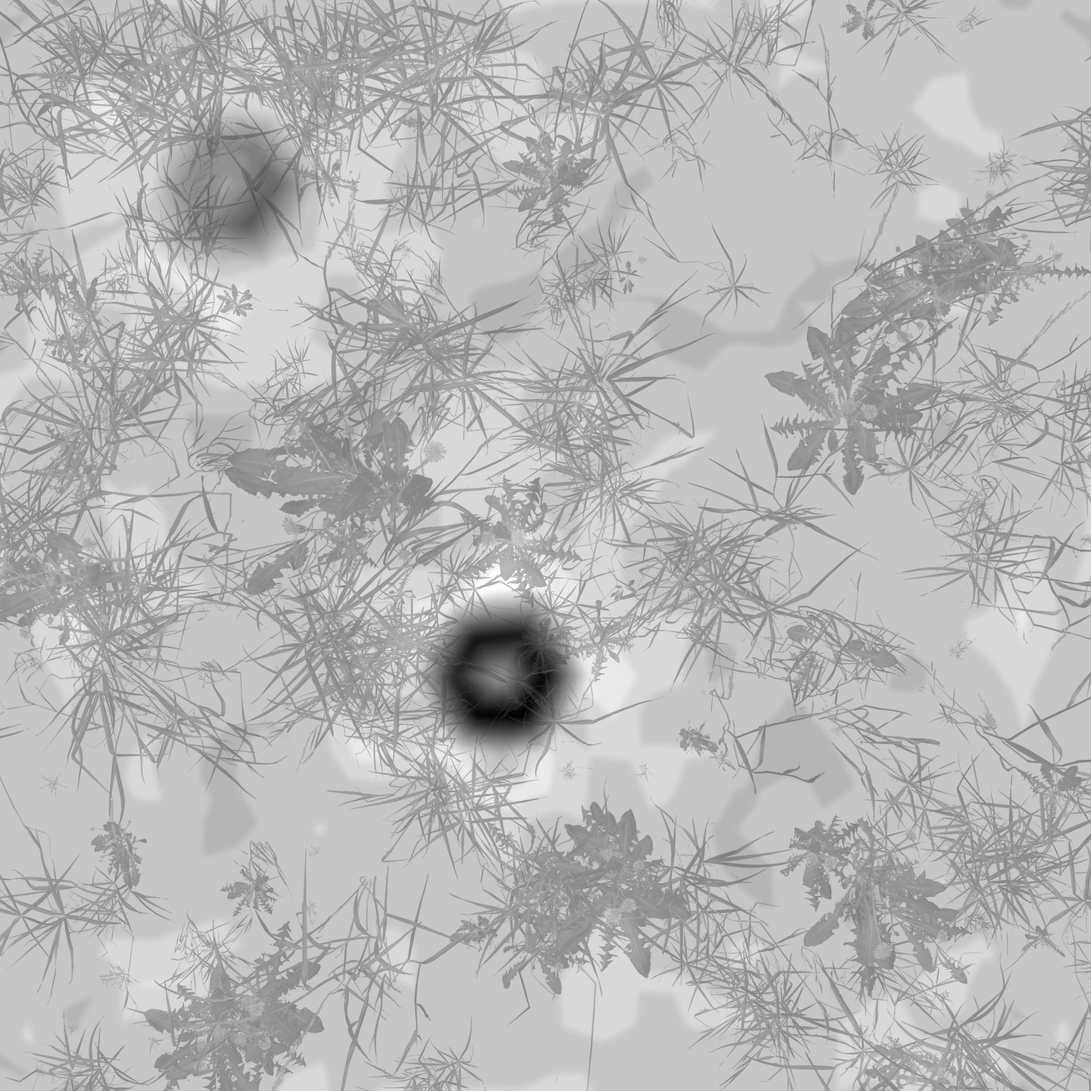landmine: (433, 600, 580, 758), (159, 118, 313, 259)
